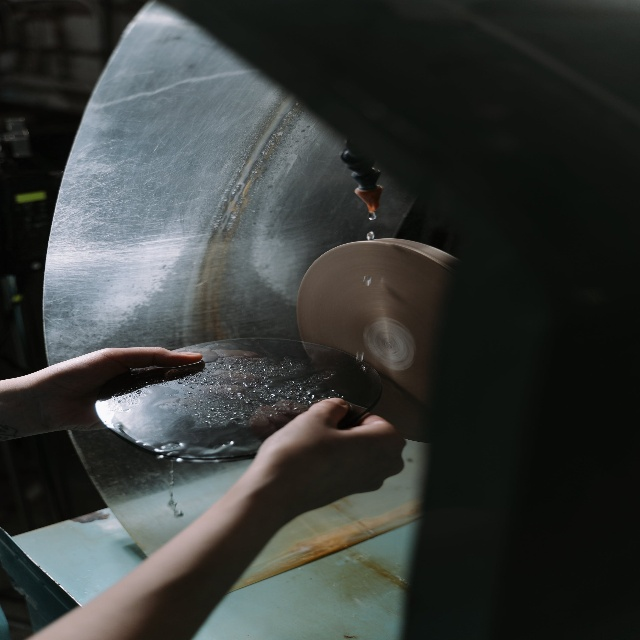Sin_guantes: (255, 397, 407, 516), (38, 346, 203, 432)
